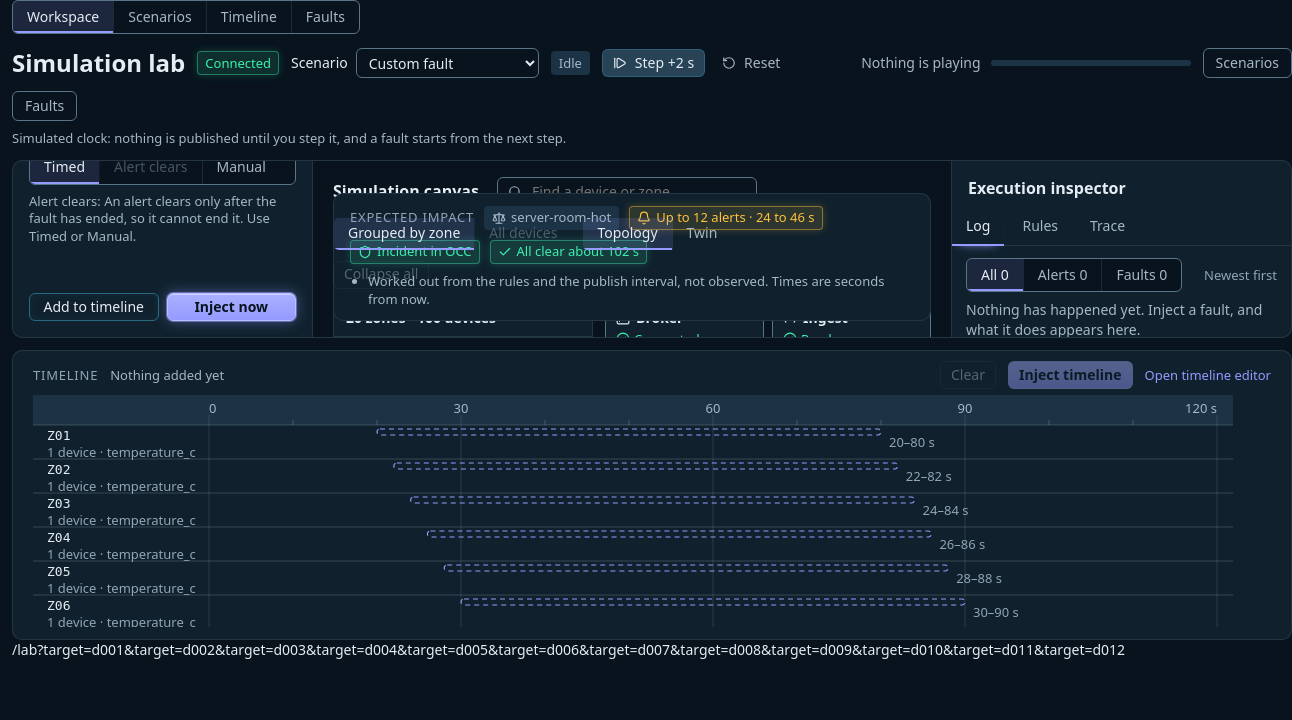
Test: Lab: 100 devices and a fault on 12 of them (frame 19) › staggers twelve starts by two seconds, asks the simulator what the rules should do, and injects them in order
The width and height of the screenshot is (1292, 720).
(page scrolled)
Expected: the text "Up to 12 alerts · 24 to 46 s" is shown, [629, 206, 823, 230]
Step 1. Click the button "Inject now" → click(231, 307), box [166, 293, 296, 321]
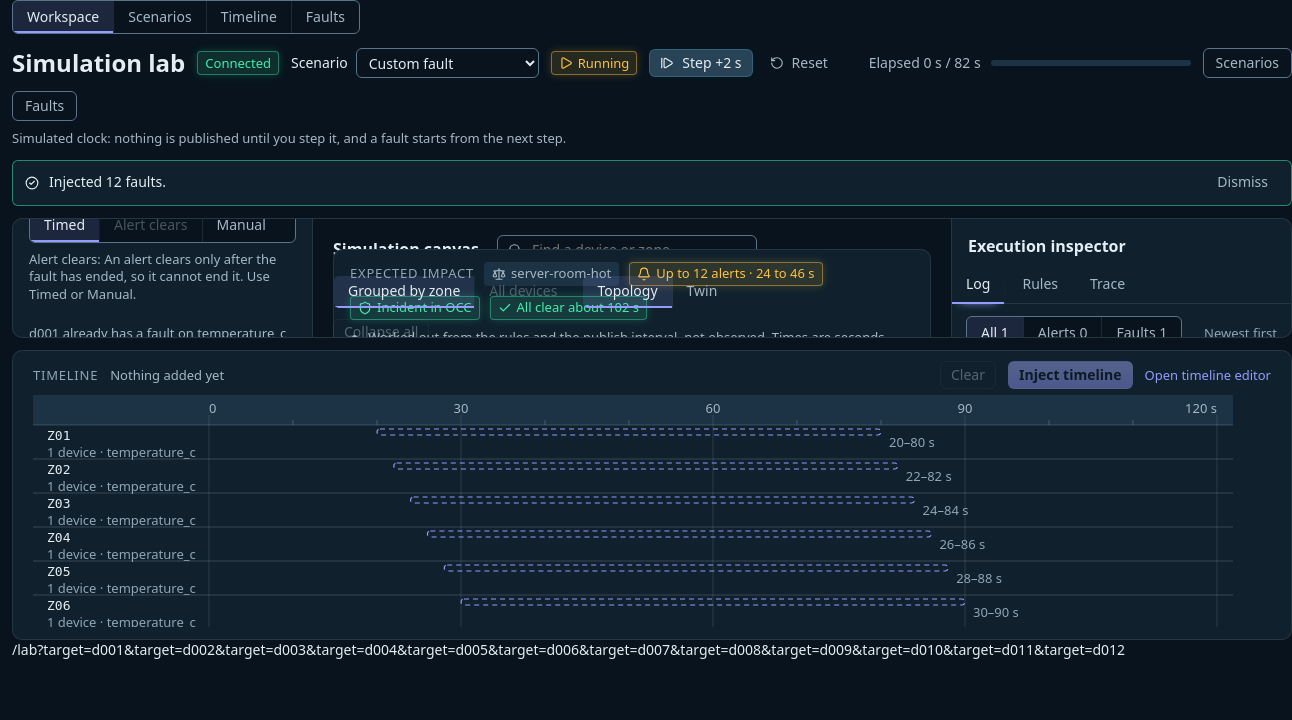
Expected: the text "Injected 12 faults." is shown, [49, 172, 166, 192]
